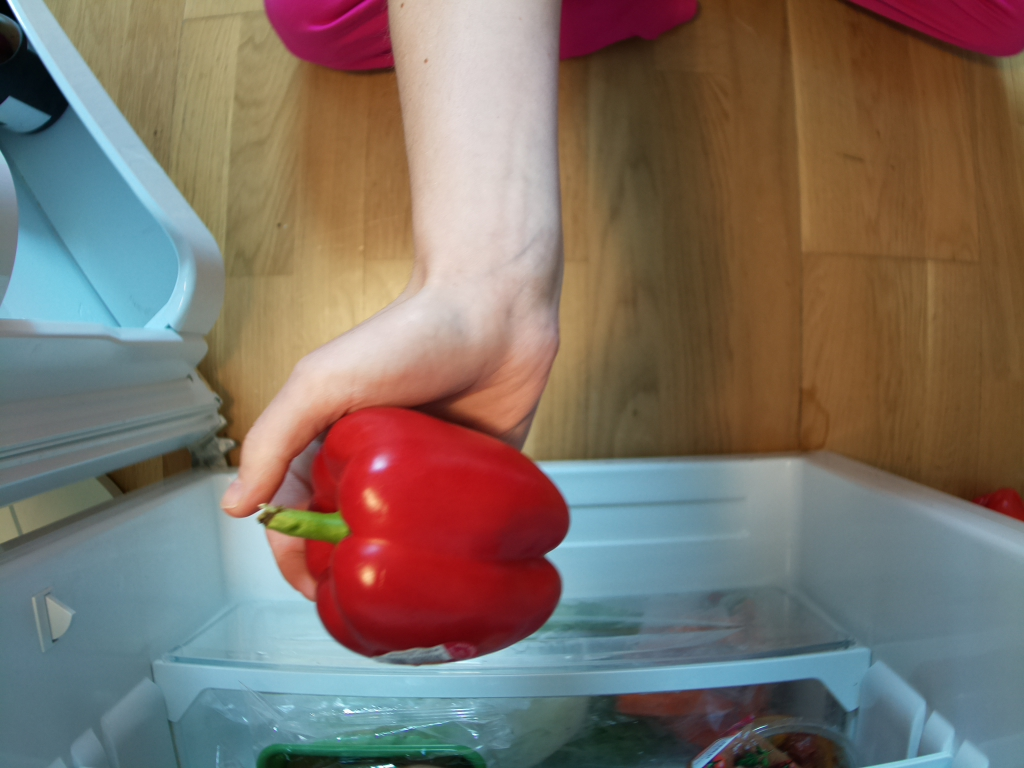pepper: (258, 407, 573, 669)
